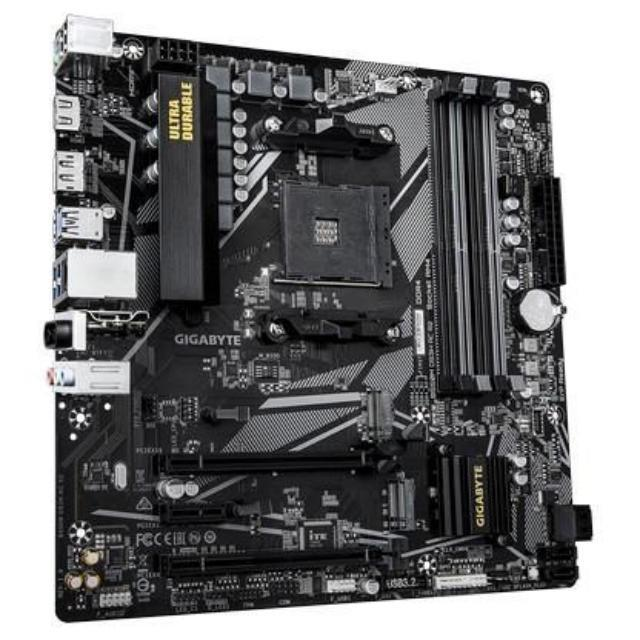Mainboard: (51, 12, 584, 628)
